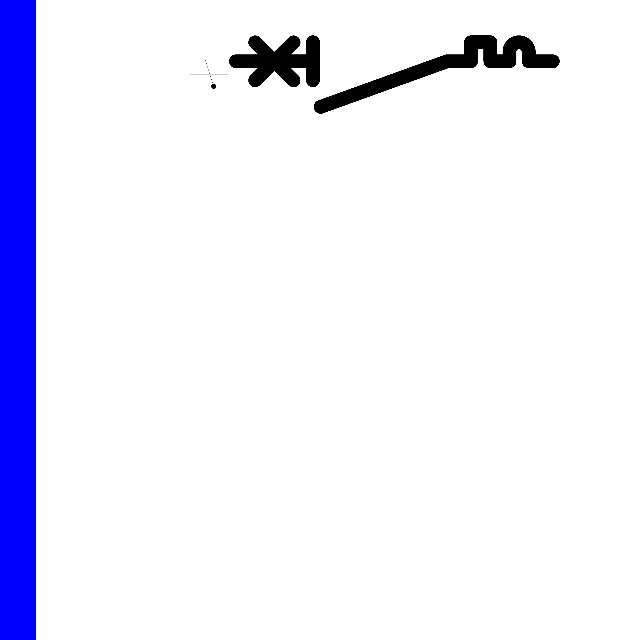interruptor_termomagnetico: (227, 34, 560, 115)
